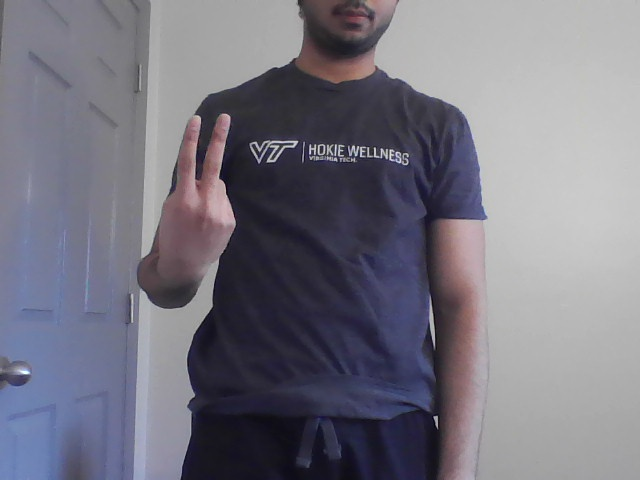two: (161, 110, 240, 268)
